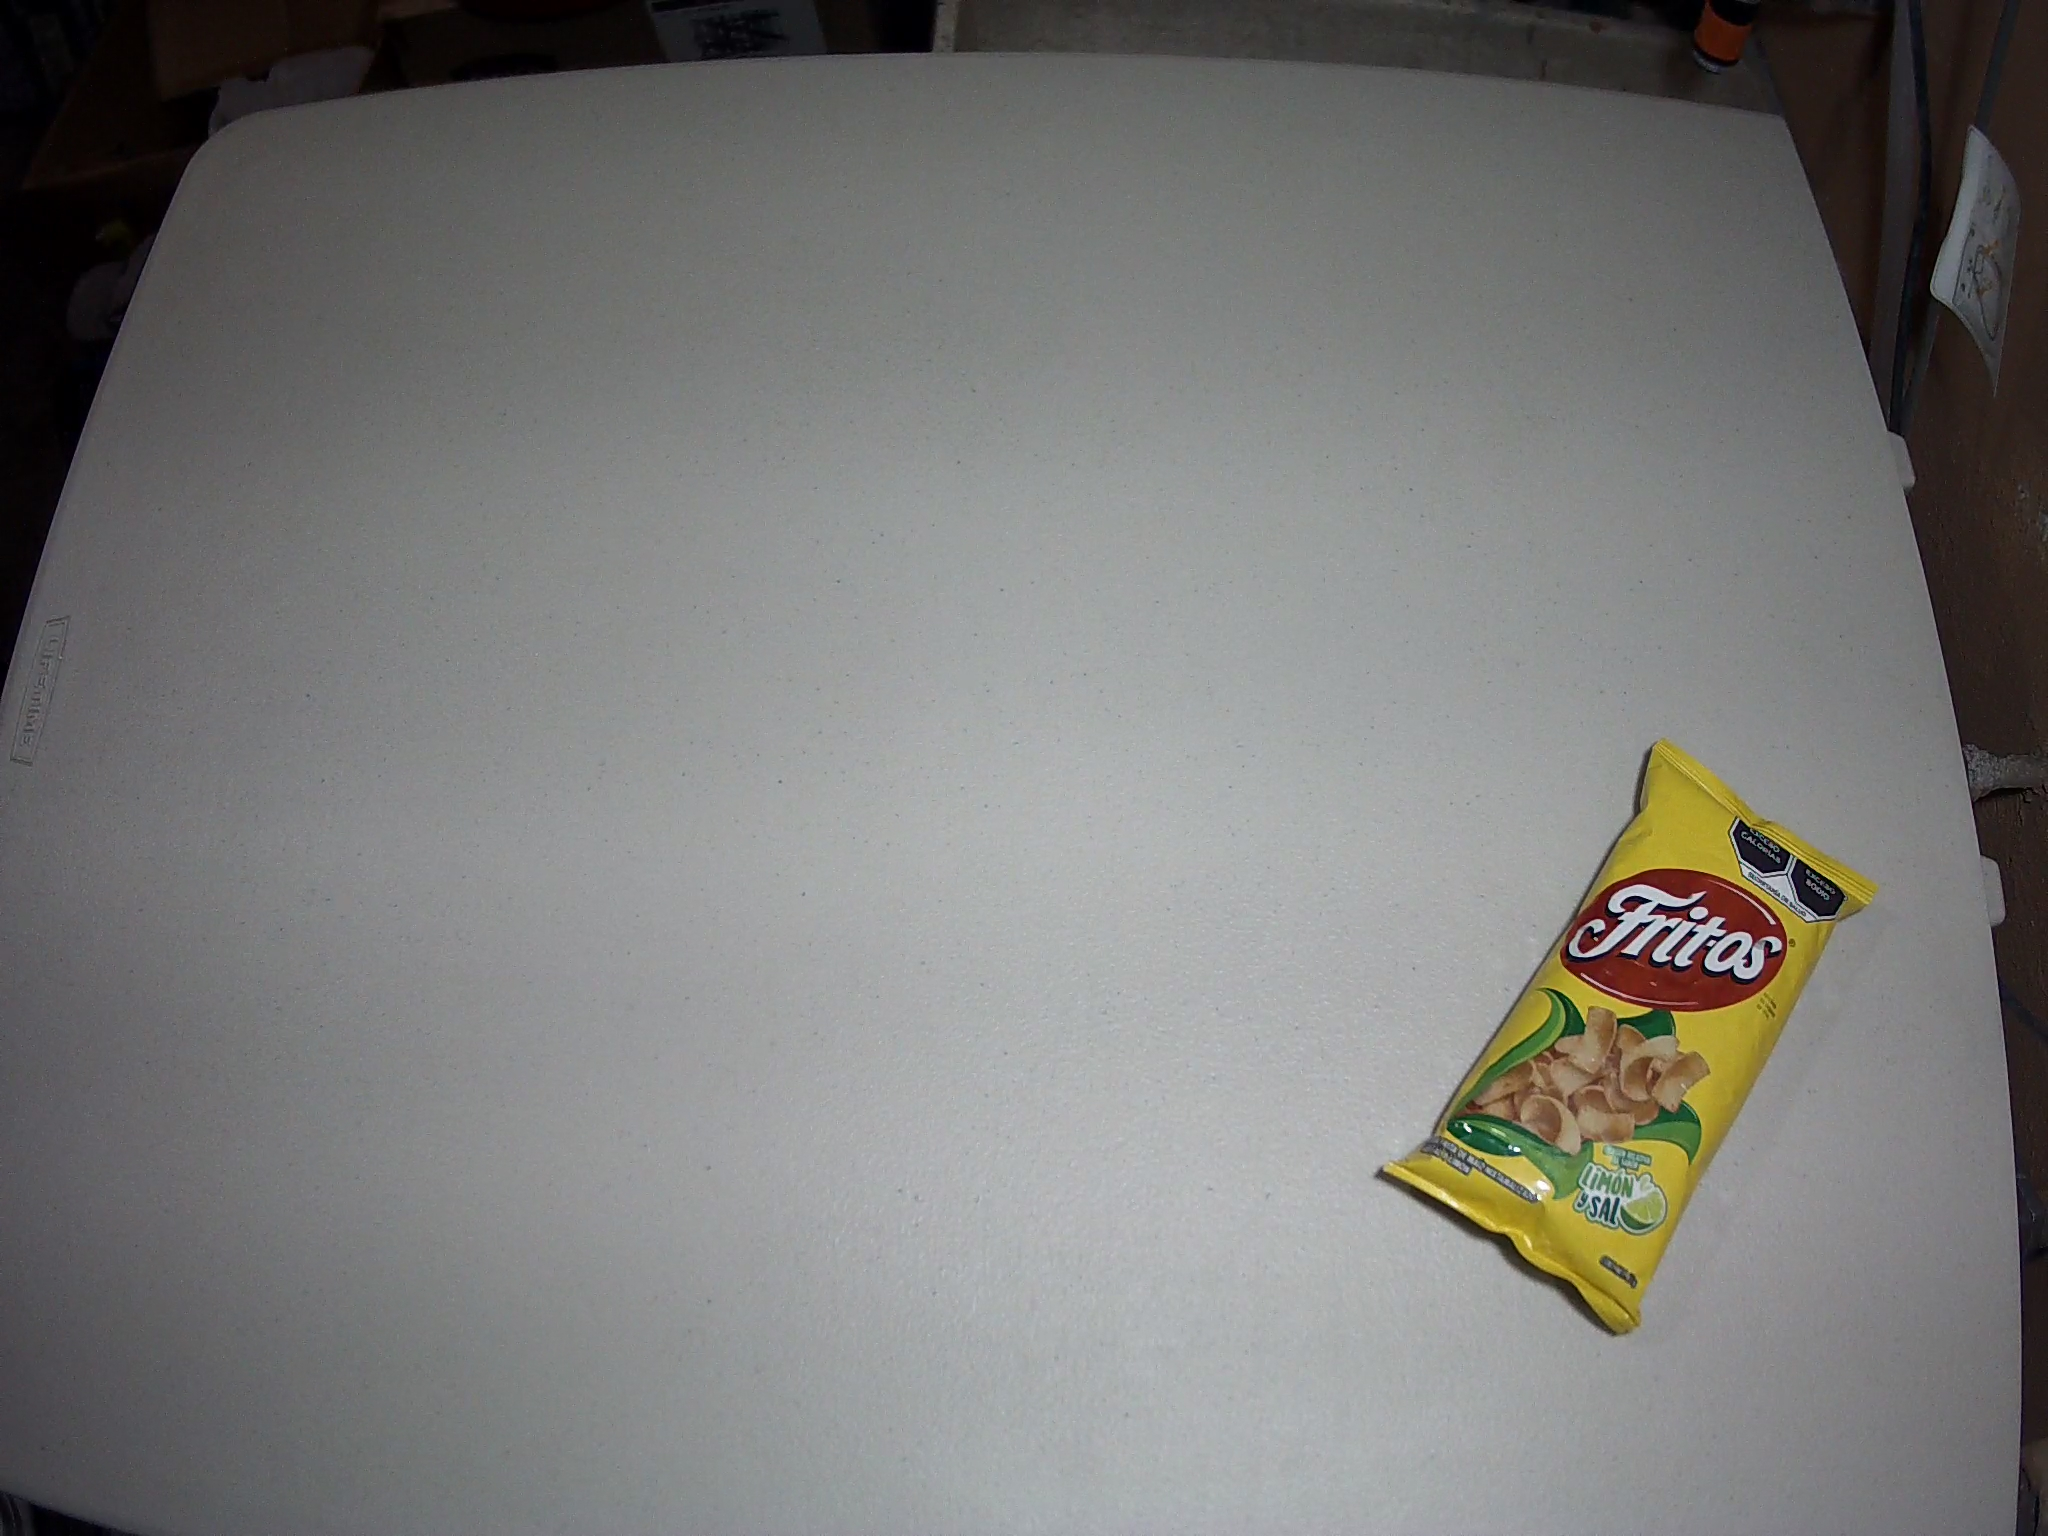FritosSalLimon_65_F: (1377, 737, 1875, 1334)
